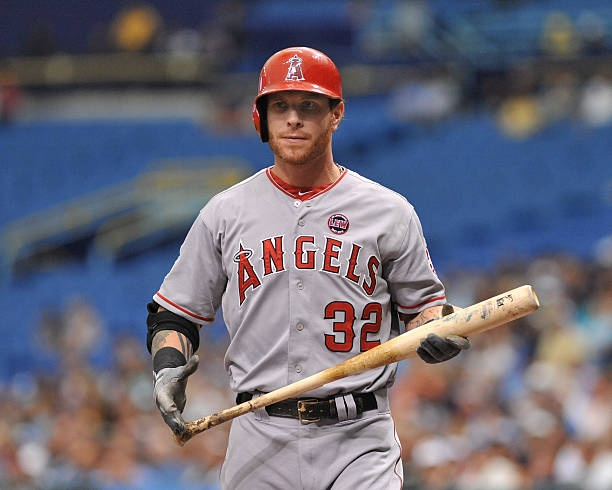bita: (190, 280, 541, 434)
